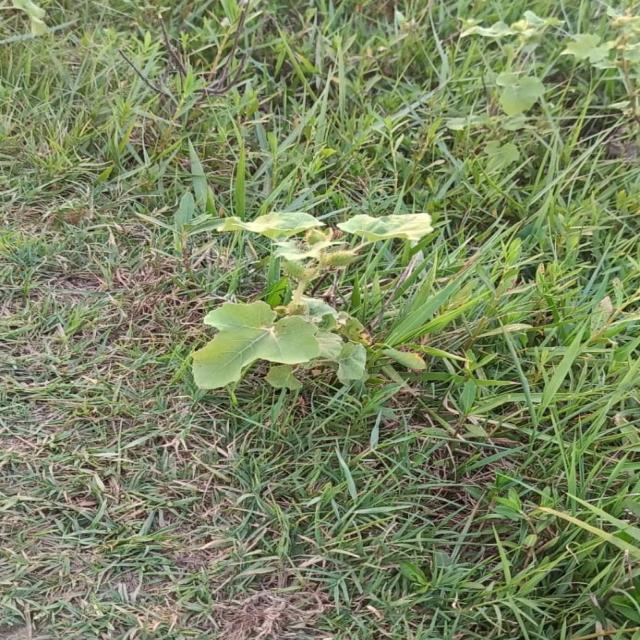weed: (191, 212, 434, 390)
